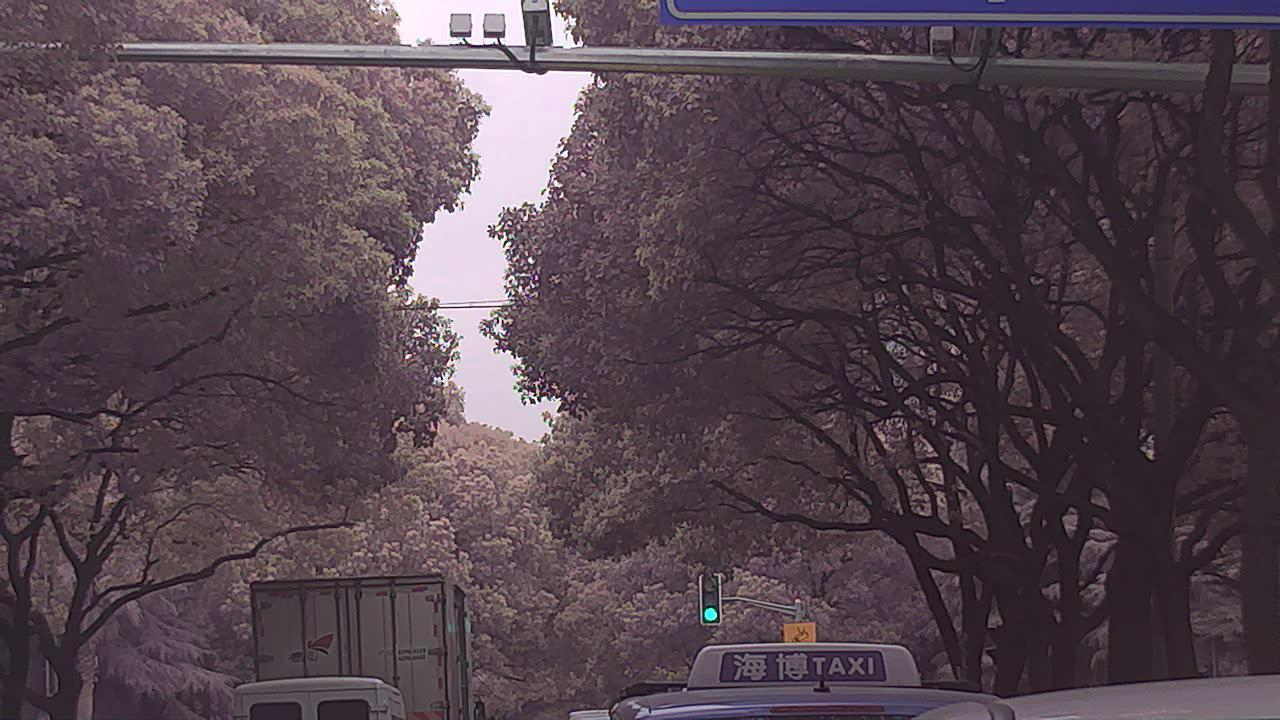traffic_light: (702, 575, 724, 623)
